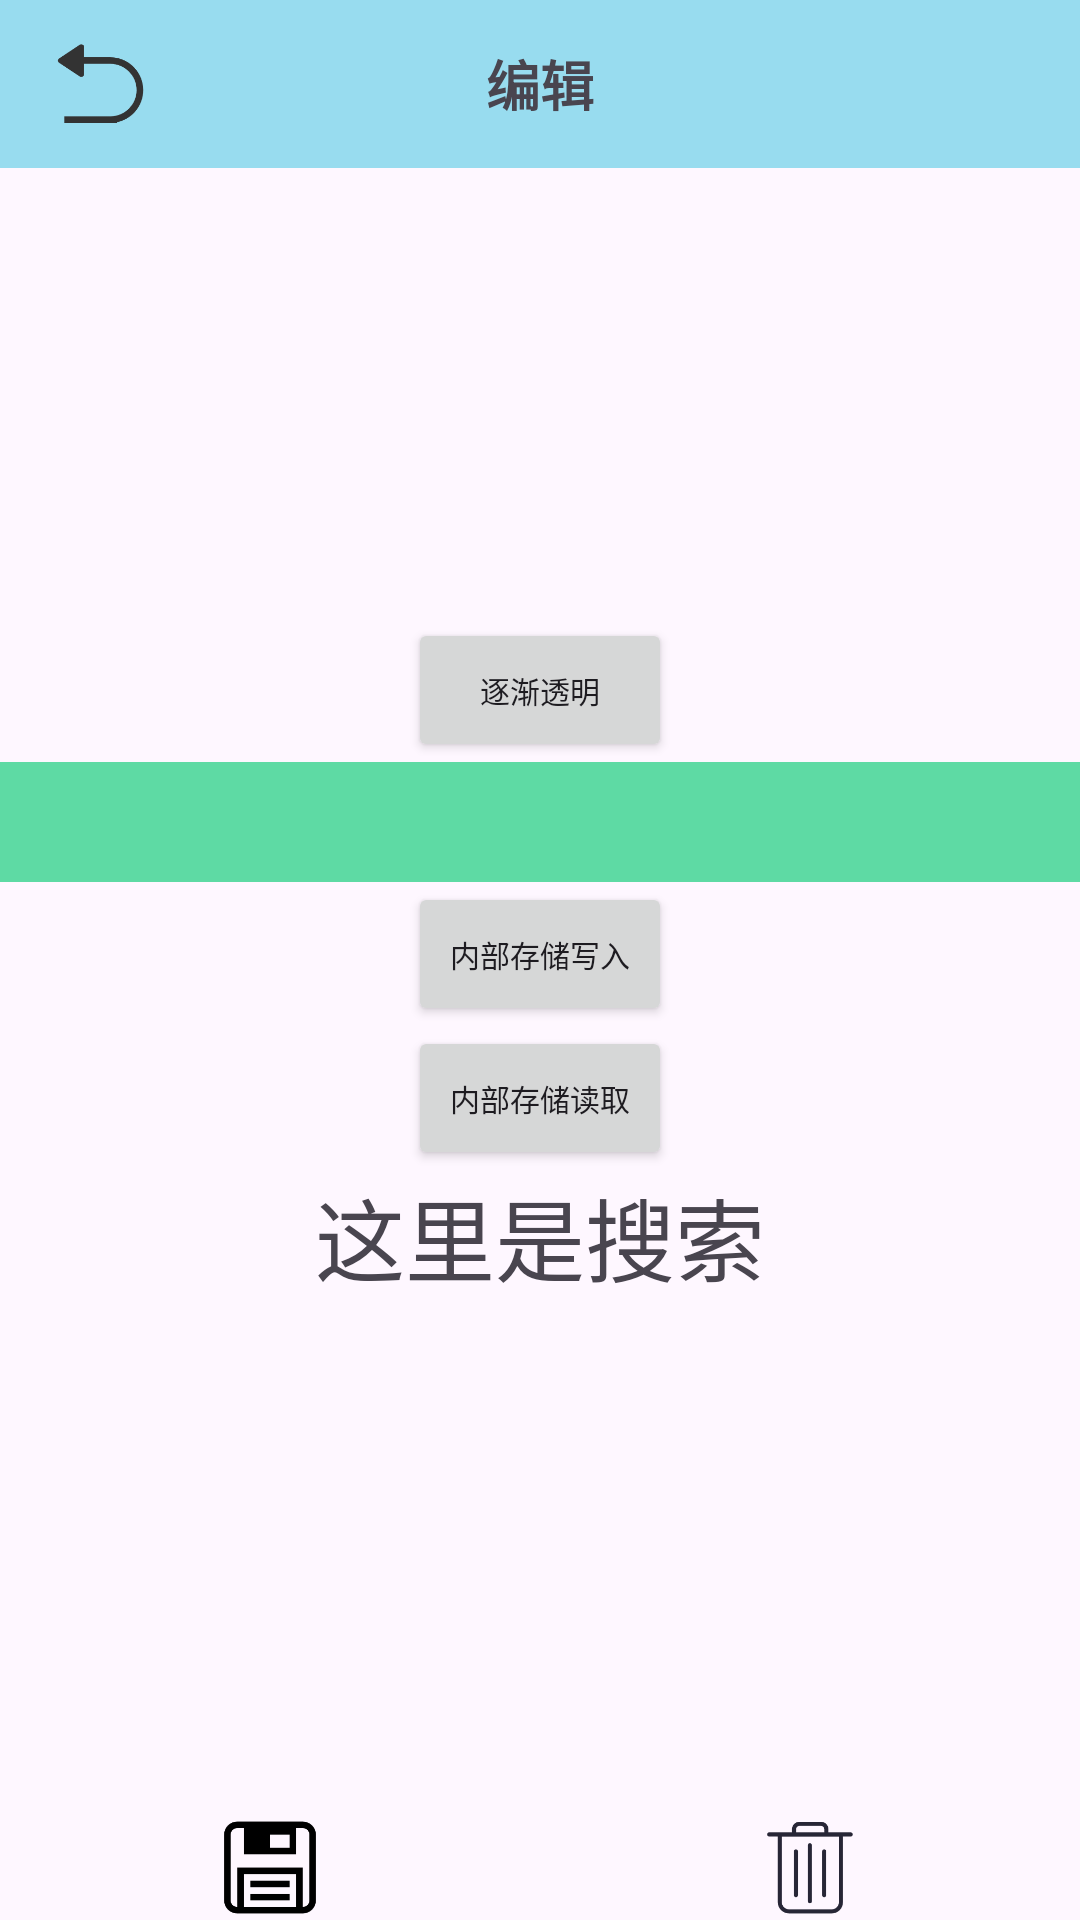

Icon click points for this 1080px x 1920px phone screenshot, format point (x, y):
tool bar bak: point (101, 83)
tool del: point (810, 1868)
tool save: point (270, 1867)
